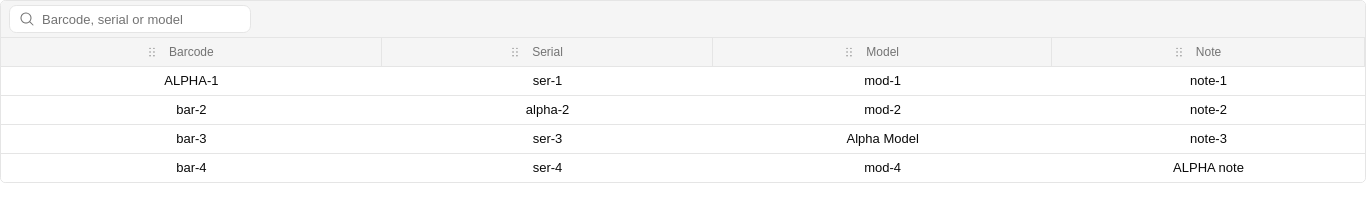
Test: table text search › matches case-insensitively and mid-string
Type "ALPHA-2" into the field labelled "Barcode, serial or model".
click(130, 19); type("ALPHA-2")  # box [9,5,251,33]
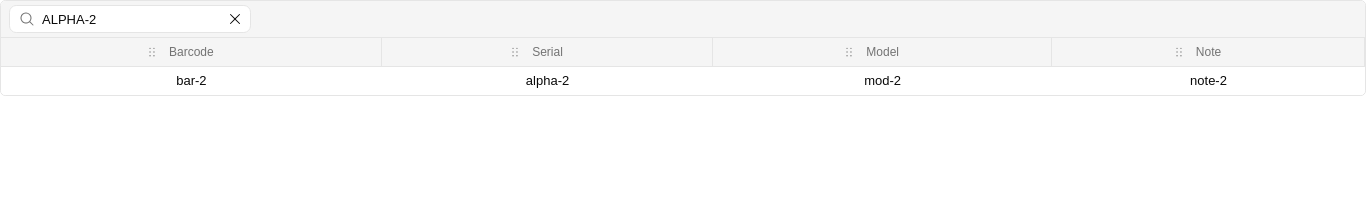
Expected: the text "alpha-2" is shown, [382,66,713,94]
Replace the text in the field named "Barcode, serial or model" with "lpha mod" at (130, 19), box [9,5,251,33]
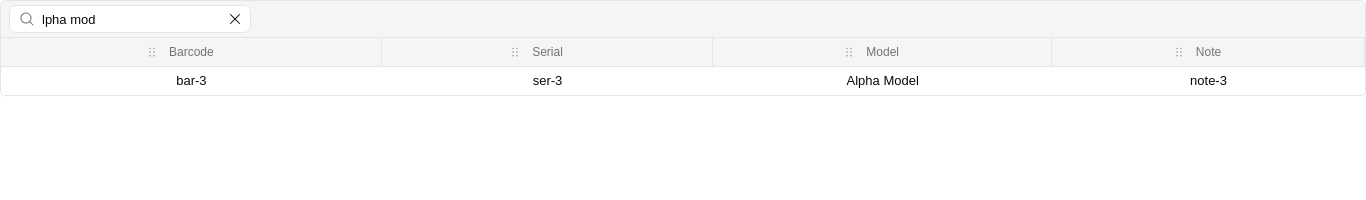
Expected: the text "Alpha Model" is shown, [713,66,1052,94]
